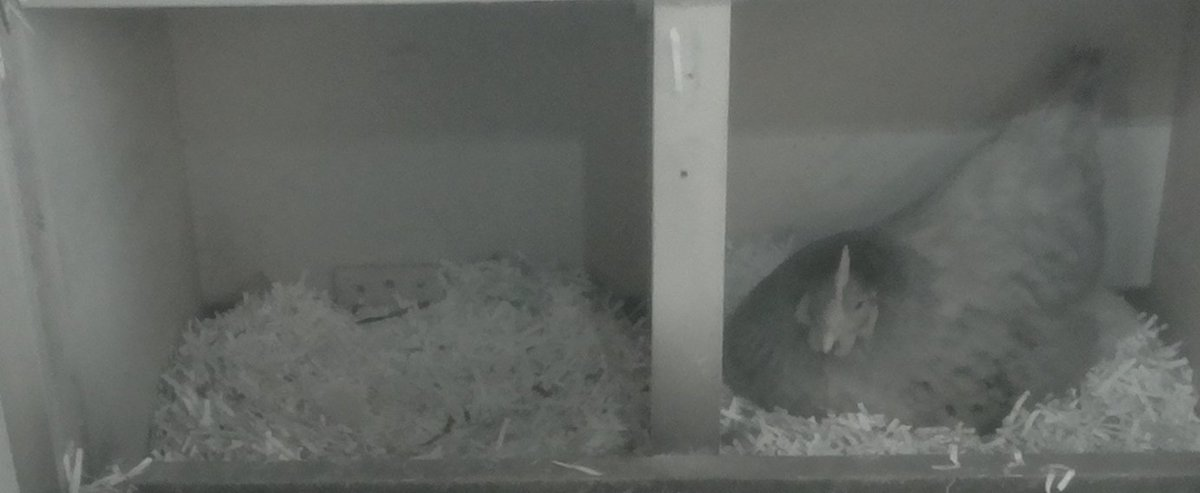hen: (721, 112, 1116, 438)
